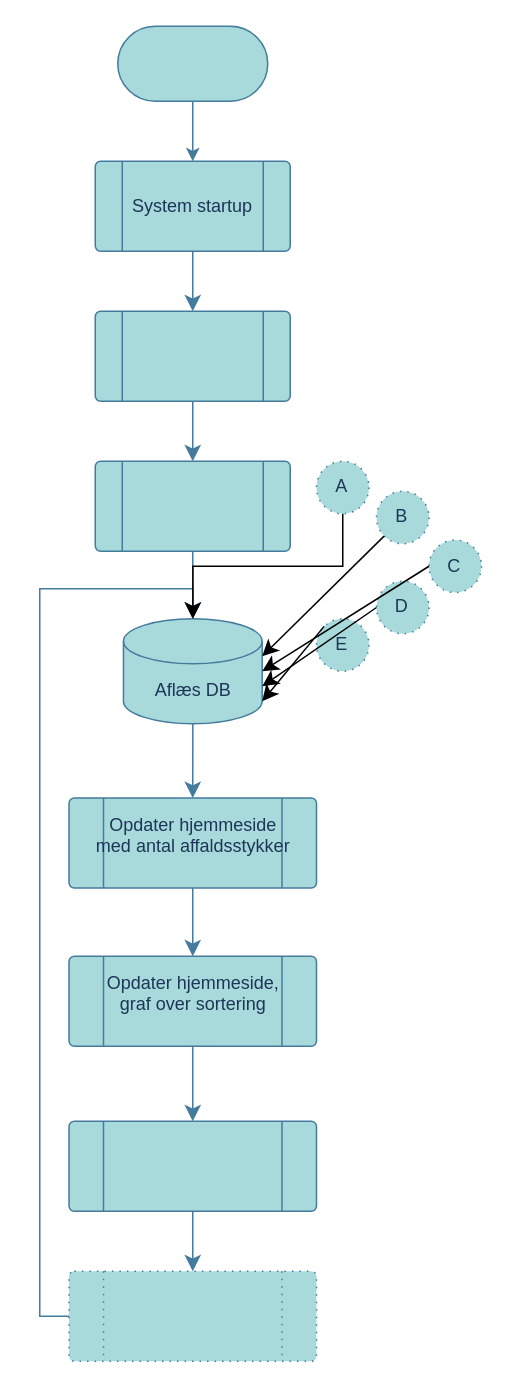
This 509x1388 diagram has some shape labels left out. Each missing label, with the centre of its shape:
Afvent opdatering på database: point 192,1315
Opdater hjemmeside, graf over beholderniveau: point 192,1165
Python script startup: point 192,355
Start hjemmeside Flask/SocketIO: point 192,505
Start ie. threading fra python script: point 192,63
